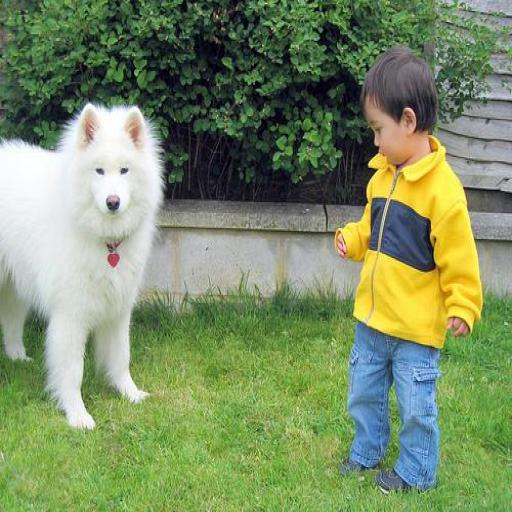dog_face: (72, 104, 147, 222)
